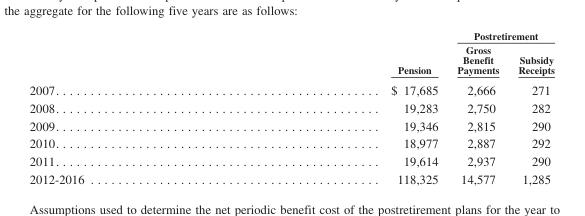table: (28, 29, 553, 185)
table column: (236, 29, 446, 185), (28, 29, 236, 185), (446, 29, 508, 185), (508, 29, 553, 185)
table column header: (28, 29, 553, 79)
table row: (28, 42, 553, 79), (28, 79, 553, 98), (28, 98, 553, 116), (28, 116, 553, 134), (28, 151, 553, 169), (28, 134, 553, 151), (28, 169, 553, 185), (28, 29, 553, 42)
table spanning cell: (236, 29, 446, 79), (446, 29, 553, 42)
